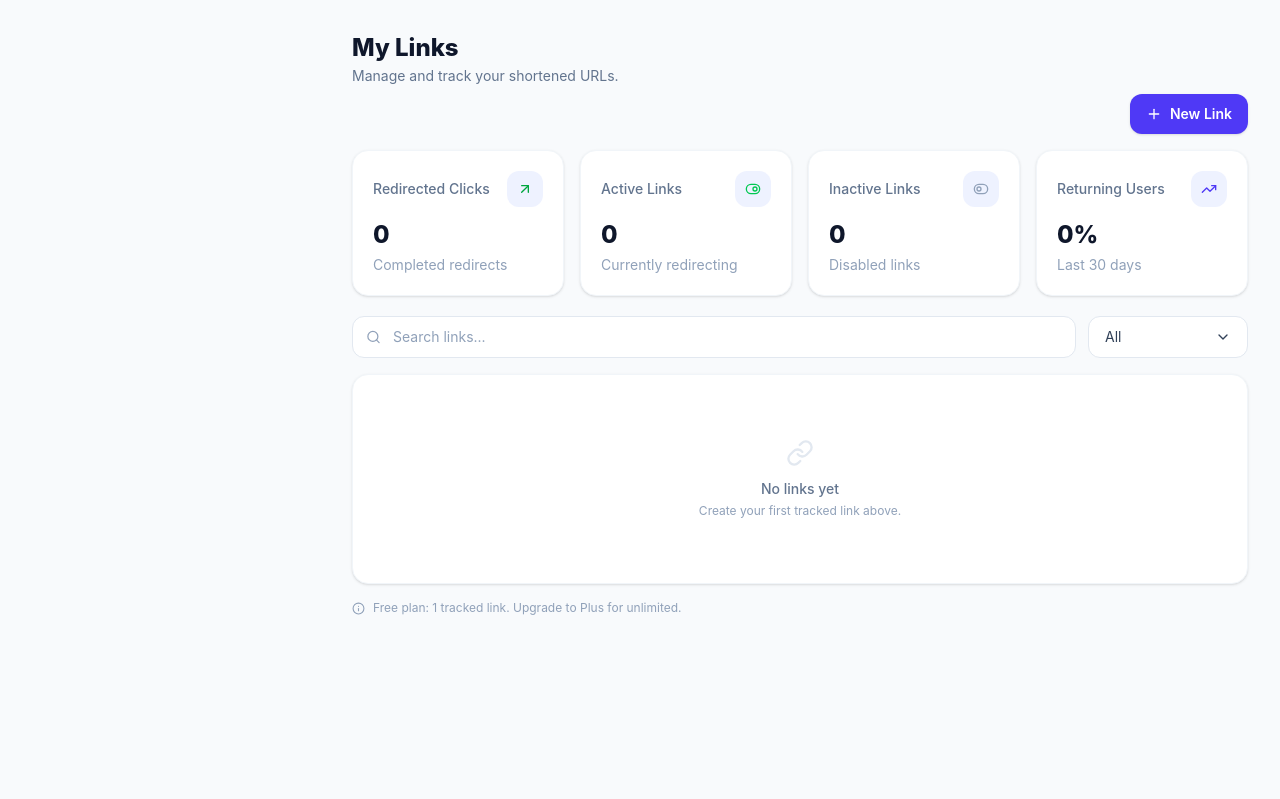
Test: Dashboard - create-link flow › the New Link button reveals the create form
Check: the text "No links yet" is shown, box [761,480,839,497]
Click the button "New Link" at (1189, 114), box [1130,94,1248,134]
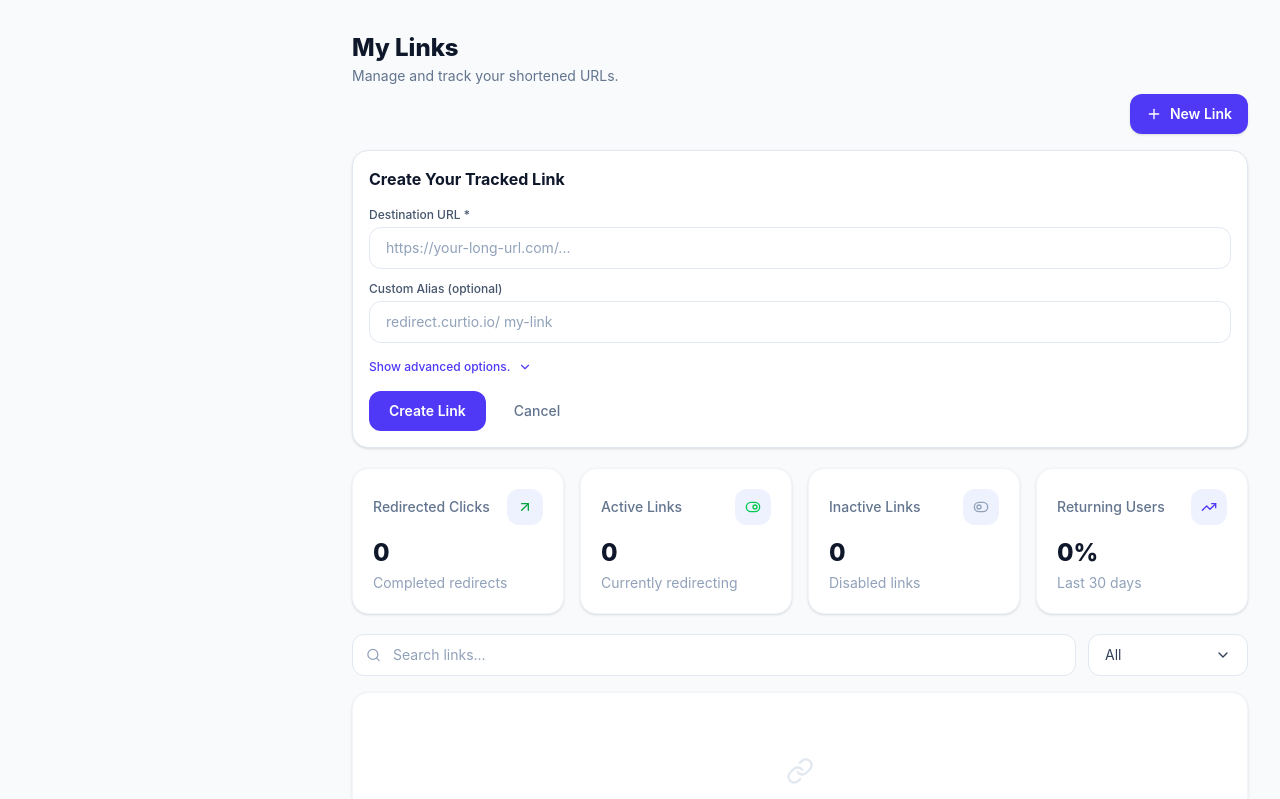
Check: the heading "Create Your Tracked Link" is shown, box [369,169,565,189]
Check: the field with placeholder "https://your-long-url.com/..." is shown, box [369,227,1231,269]
